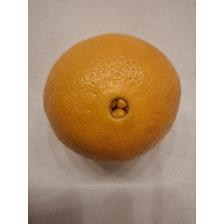Orange: (42, 30, 182, 166)
